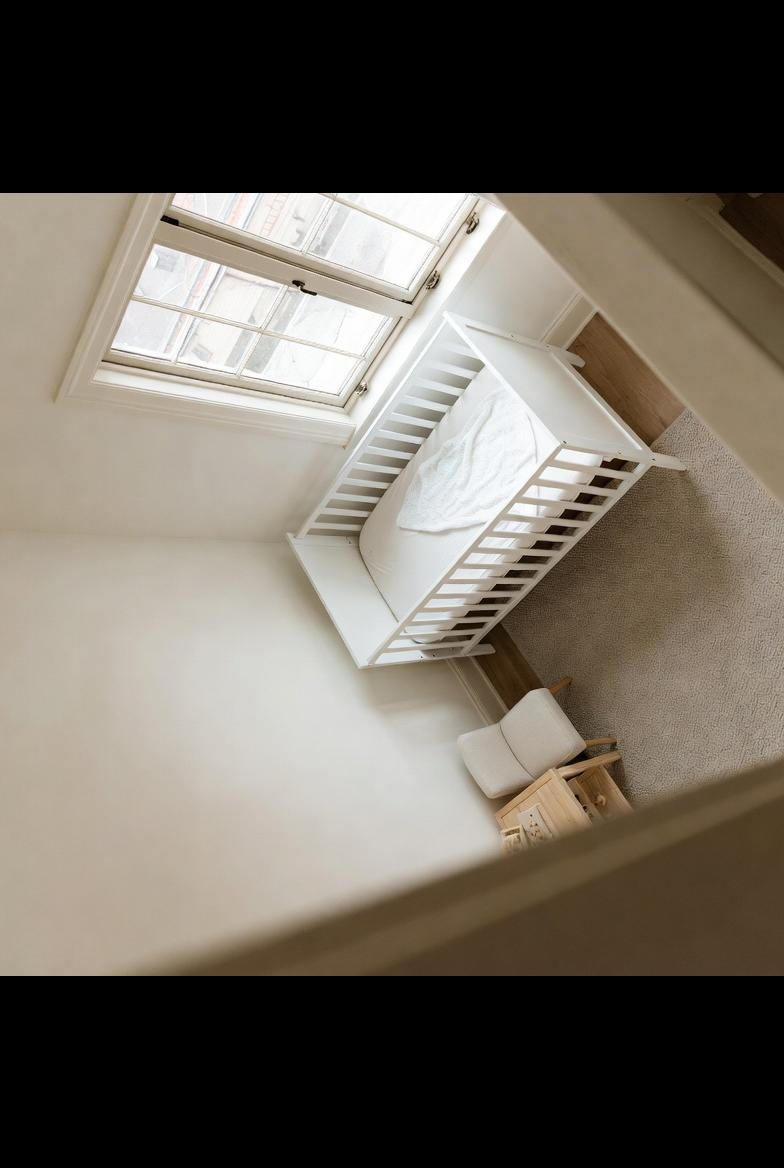crib: (289, 313, 684, 666)
